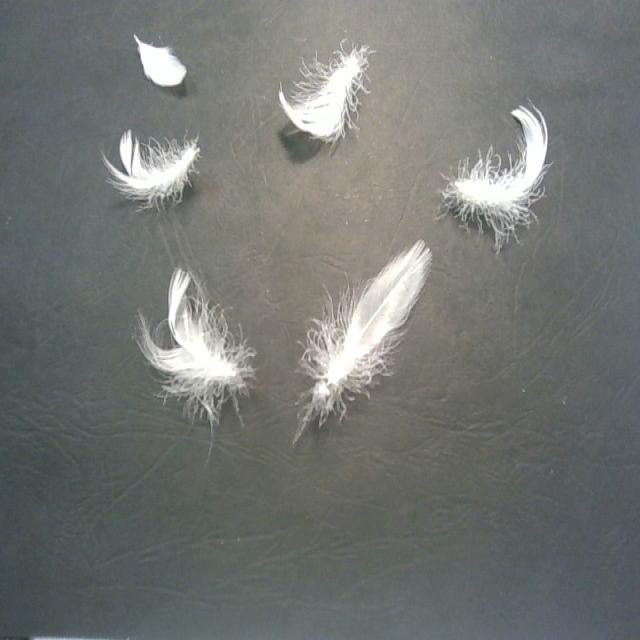feather: (289, 236, 435, 440), (132, 263, 255, 424), (439, 100, 556, 236), (274, 30, 374, 146), (100, 131, 199, 205), (126, 29, 188, 87)
